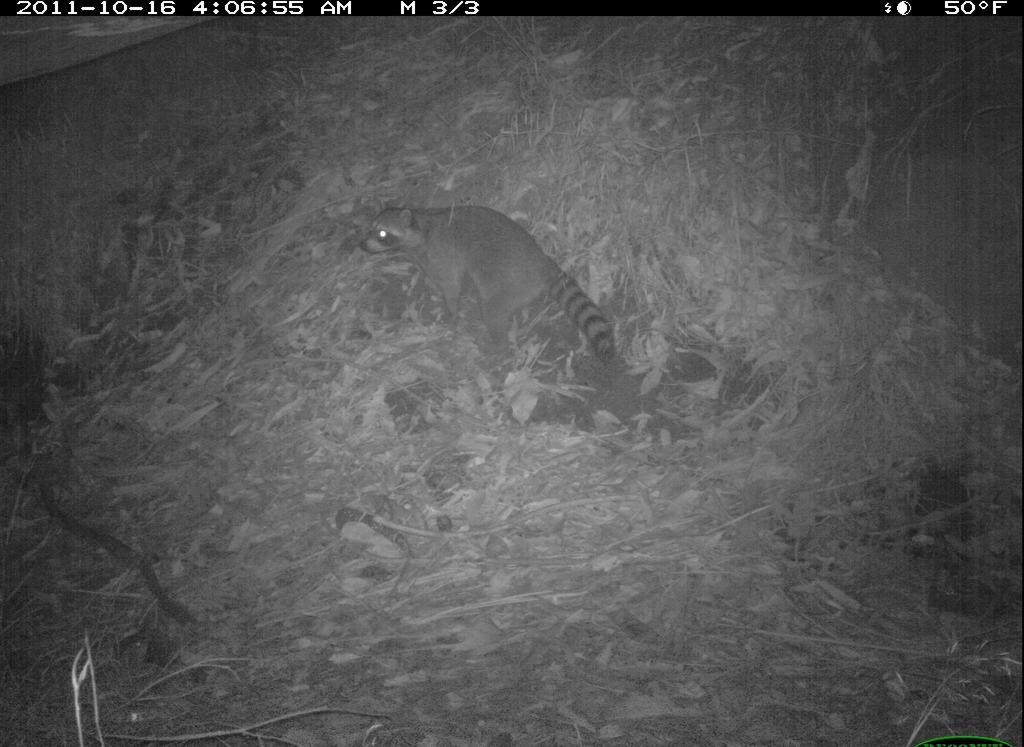raccoon: (356, 194, 633, 395)
